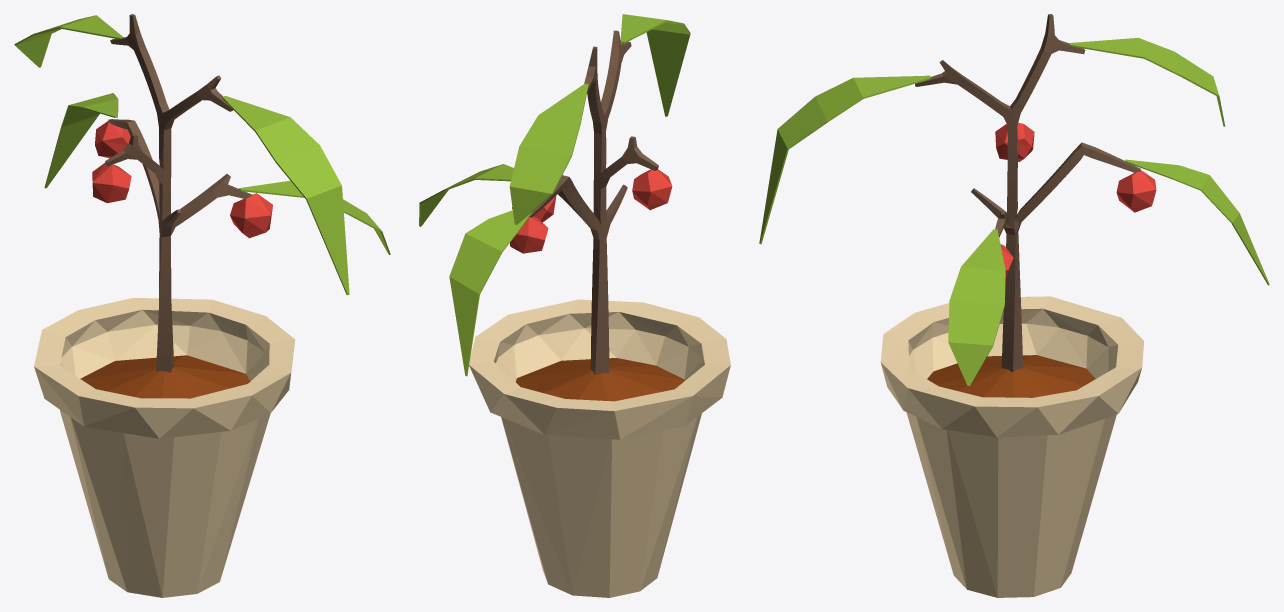
File: plant_lowpoly.glb
3 renders of one model, left to right at view 1: azimuth 30°, elevation 25°; view 2: azimuth 150°, elevation 25°; view 3: azimuth 270°, elevation 25°, orthographic.
Parts seen in each view (by area): view 1: Cylinder_1, Vert_2, Plane.004_5, Plane.002_4, Plane.005_6, Icosphere_7, Icosphere.002_9, Plane_3, Icosphere.001_8; view 2: Cylinder_1, Vert_2, Plane.005_6, Plane.002_4, Plane.004_5, Icosphere.002_9, Plane_3, Icosphere.001_8; view 3: Cylinder_1, Vert_2, Plane_3, Plane.004_5, Plane.005_6, Plane.002_4, Icosphere.001_8, Icosphere.002_9.
Part boxes in pixels (x1=…): Cylinder_1: x1=34, y1=298, x2=295, y2=597; Vert_2: x1=105, y1=14, x2=252, y2=372; Plane.004_5: x1=222, y1=96, x2=349, y2=295; Plane.002_4: x1=44, y1=93, x2=118, y2=188; Plane.005_6: x1=14, y1=15, x2=123, y2=67; Icosphere_7: x1=230, y1=193, x2=272, y2=238; Icosphere.002_9: x1=92, y1=163, x2=131, y2=203; Plane_3: x1=239, y1=180, x2=390, y2=254; Icosphere.001_8: x1=95, y1=121, x2=130, y2=158; Cylinder_1: x1=469, y1=299, x2=730, y2=597; Vert_2: x1=529, y1=30, x2=658, y2=374; Plane.005_6: x1=509, y1=83, x2=588, y2=224; Plane.002_4: x1=449, y1=210, x2=532, y2=376; Plane.004_5: x1=620, y1=14, x2=690, y2=116; Icosphere.002_9: x1=632, y1=169, x2=672, y2=209; Plane_3: x1=419, y1=164, x2=513, y2=226; Icosphere.001_8: x1=510, y1=216, x2=548, y2=253; Cylinder_1: x1=880, y1=296, x2=1144, y2=597; Vert_2: x1=915, y1=14, x2=1140, y2=372; Plane_3: x1=948, y1=229, x2=1005, y2=385; Plane.004_5: x1=759, y1=75, x2=930, y2=244; Plane.005_6: x1=1069, y1=37, x2=1225, y2=126; Plane.002_4: x1=1124, y1=159, x2=1269, y2=285; Icosphere.001_8: x1=1116, y1=170, x2=1156, y2=212; Icosphere.002_9: x1=995, y1=123, x2=1034, y2=161.
Size of the model in its own units: 3.02 by 5 by 4.19.
